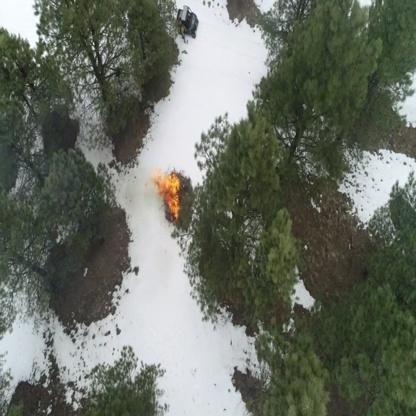Fire: (151, 167, 181, 222)
